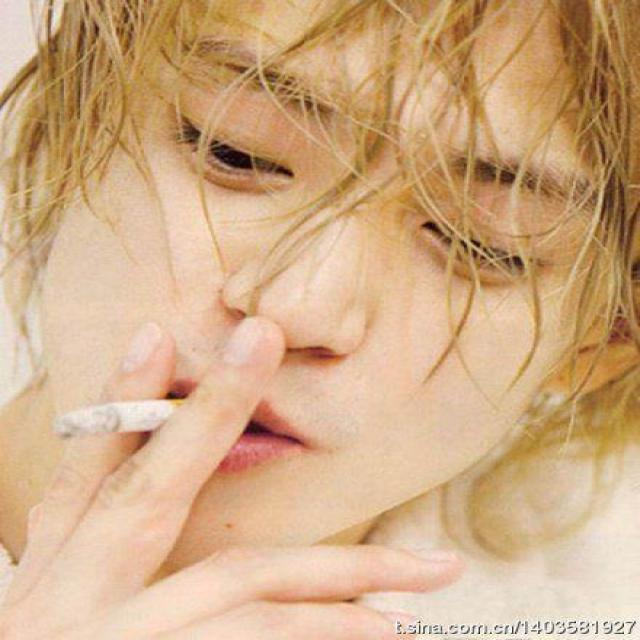cigarette: (35, 371, 272, 455)
